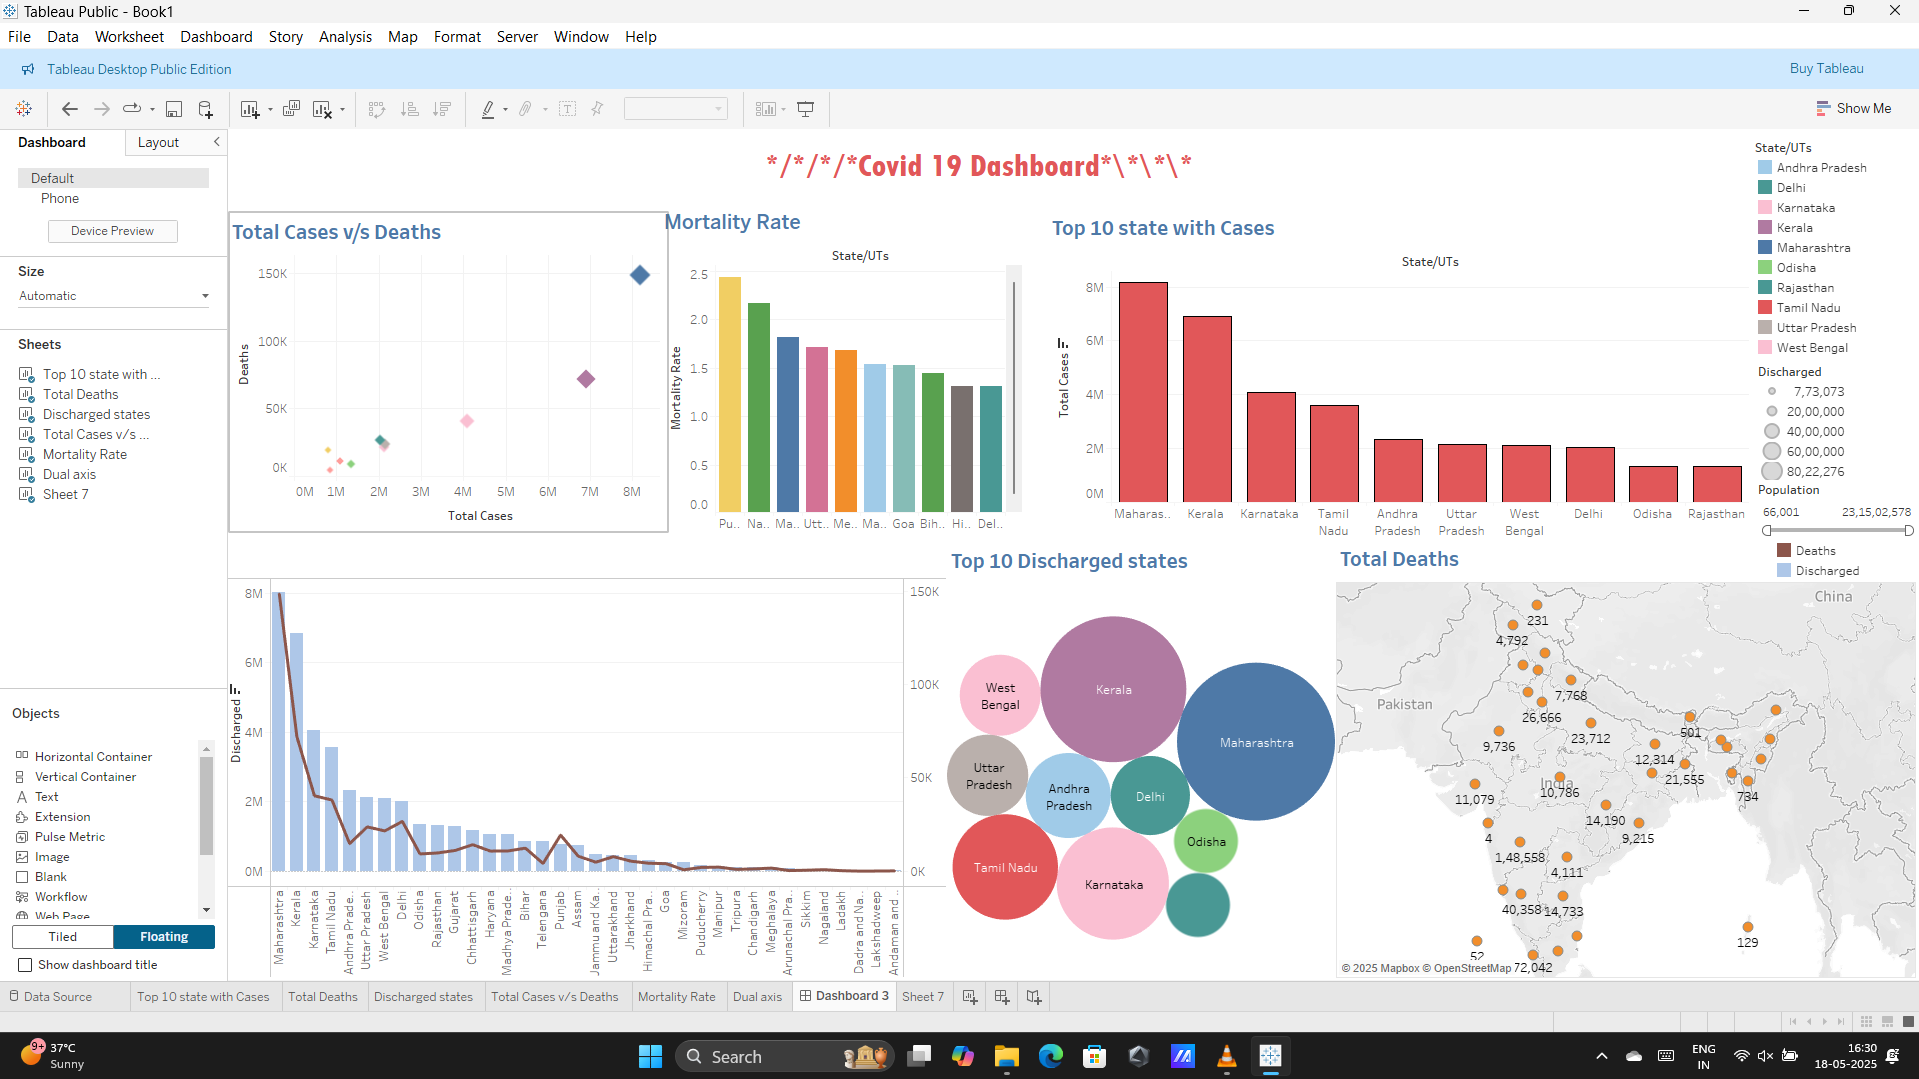

This screenshot's page, from the dashboard's own definition file:
{"tool":"tableau","page":{"name":"Dashboard 3","canvas":[1000,1000],"units":"permille","ordinal":0},"visuals":[{"type":"legend","title":"Discharged states","param":"[federated.1xgxz7r0hljygb1bkli3v1ed0fbb].[none:State/UTs:nk]","box":[903,11.8,95.2,256.2]},{"type":"worksheet","title":"Sheet 7","mark":"Automatic","box":[315.8,17.6,279.7,40]},{"type":"worksheet","title":"Mortality Rate","mark":"Automatic","rows":["Calculation_1248060057923932160"],"cols":["State/UTs"],"box":[255.5,90.5,223.5,384.2]},{"type":"worksheet","title":"Top 10 state with Cases","mark":"Automatic","rows":["Total Cases"],"cols":["State/UTs"],"box":[484.9,94,414.6,391.3]},{"type":"worksheet","title":"Total Cases v/s Deaths","mark":"Automatic","rows":["Deaths"],"cols":["Total Cases"],"box":[0,98.7,259.6,373.7]},{"type":"legend","title":"Total Cases v/s Deaths","param":"[federated.1xgxz7r0hljygb1bkli3v1ed0fbb].[sum:Discharged:qk]","box":[904.8,275,93.4,138.7]},{"type":"filter","title":"Dual axis","param":"[federated.1xgxz7r0hljygb1bkli3v1ed0fbb].[sum:Population:qk]","box":[904.8,413.6,94.6,71.7]},{"type":"worksheet","title":"Total Deaths","mark":"Automatic","box":[655.2,483,343,514.7]},{"type":"legend","title":"Dual axis","param":"[federated.1xgxz7r0hljygb1bkli3v1ed0fbb].[:Measure Names]","box":[914.2,483,82.8,68.2]},{"type":"worksheet","title":"Discharged states","mark":"Circle","box":[425.2,485.3,229.5,510]}]}

Visuals, with their boxes on the dashboard's canvas, which has no fixed pixel size, in thousandths of its width and height (x1, y1, x2, y2). These are canvas units, not pixel positions in the 1919x1079 screenshot, which may show the page scaled, cropped or inside an application window:
"Discharged states" legend: 903,12,998,268
"Sheet 7" worksheet: 316,18,596,58
"Mortality Rate" worksheet: 256,90,479,475
"Top 10 state with Cases" worksheet: 485,94,900,485
"Total Cases v/s Deaths" worksheet: 0,99,260,472
"Total Cases v/s Deaths" legend: 905,275,998,414
"Dual axis" filter: 905,414,999,485
"Total Deaths" worksheet: 655,483,998,998
"Dual axis" legend: 914,483,997,551
"Discharged states" worksheet (Circle marks): 425,485,655,995
